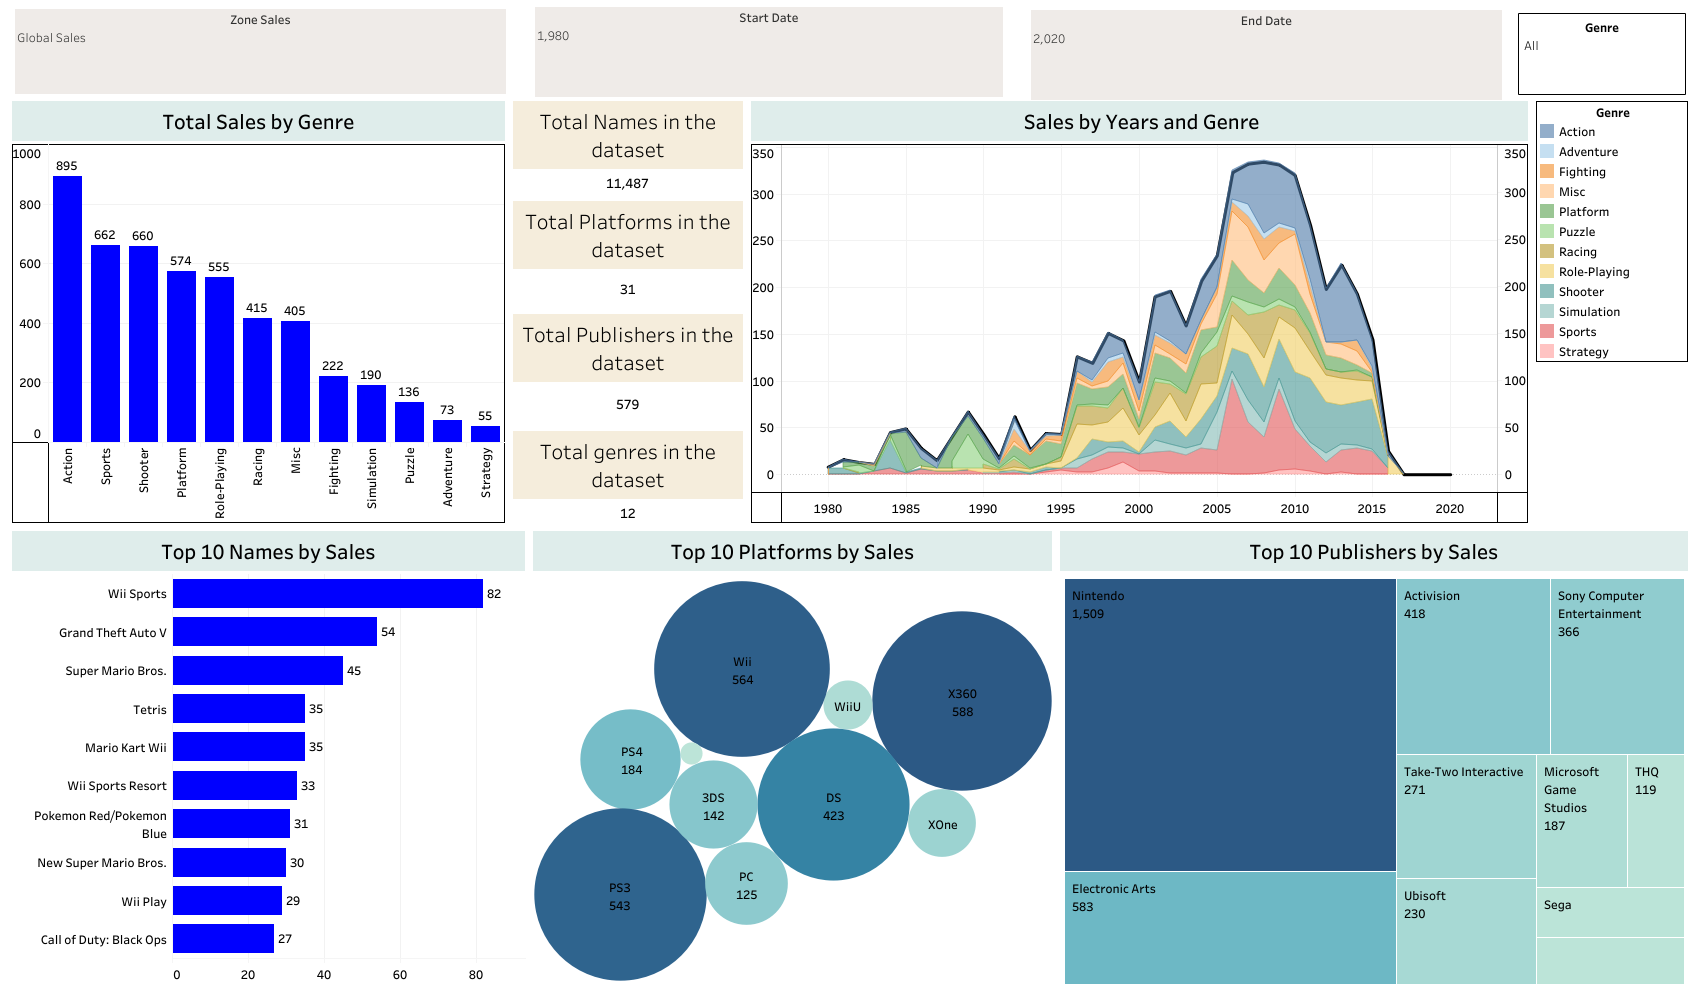

The page's visual inventory and layout, read from the dashboard file:
{"tool":"tableau","page":{"name":"Dashboard 1","canvas":[1700,1000],"ordinal":0},"visuals":[{"type":"parameter","param":"[Parameters].[Parameter 2]","box":[535,7,468,90]},{"type":"blank","box":[8,8,501,89]},{"type":"parameter","param":"[Parameters].[Parameter 1]","box":[15,9,491,85]},{"type":"parameter","param":"[Parameters].[Parameter 3]","box":[1031,10,471,90]},{"type":"filter","title":" Sales by Years and Genre","param":"[federated.04hql3z19e53441gzdjo21470nii].[none:Genre:nk]","box":[1518,13,168,82]},{"type":"worksheet","title":"Total Sales by Genre","mark":"Automatic","rows":["Calculation_834291831549964288"],"cols":["Genre"],"box":[8,97,501,430]},{"type":"worksheet","title":"Total Names in the dataset","mark":"Automatic","box":[509,97,238,100]},{"type":"worksheet","title":" Sales by Years and Genre","mark":"Automatic","rows":["Calculation_834291831549964288","Calculation_834291831549964288"],"cols":["Year"],"box":[747,97,785,430]},{"type":"legend","title":" Sales by Years and Genre","param":"[federated.04hql3z19e53441gzdjo21470nii].[none:Genre:nk]","box":[1532,97,160,278]},{"type":"worksheet","title":"Total Platforms in the dataset ","mark":"Automatic","box":[509,197,238,113]},{"type":"worksheet","title":"Total Publishers in the dataset","mark":"Automatic","box":[509,310,238,117]},{"type":"worksheet","title":"Total genres in the dataset","mark":"Automatic","box":[509,427,238,100]},{"type":"worksheet","title":"Top 10 Names by Sales","mark":"Automatic","rows":["Name"],"cols":["Calculation_834291831549964288"],"box":[8,527,521,465]},{"type":"worksheet","title":"Top 10 Platforms by Sales","mark":"Circle","box":[529,527,527,465]},{"type":"worksheet","title":"Top 10 Publishers by Sales","mark":"Automatic","box":[1056,527,636,465]}]}

Visuals, with their boxes in screenshot pixels (x1, y1, x2, y2), scaled from the page's 1700x1000 canvas onto the 1699x999 screenshot:
parameter: 535/7/1002/97
blank: 8/8/509/97
parameter: 15/9/506/94
parameter: 1030/10/1501/100
" Sales by Years and Genre" filter: 1517/13/1685/95
"Total Sales by Genre" worksheet: 8/97/509/526
"Total Names in the dataset" worksheet: 509/97/747/197
" Sales by Years and Genre" worksheet: 747/97/1531/526
" Sales by Years and Genre" legend: 1531/97/1691/375
"Total Platforms in the dataset " worksheet: 509/197/747/310
"Total Publishers in the dataset" worksheet: 509/310/747/427
"Total genres in the dataset" worksheet: 509/427/747/526
"Top 10 Names by Sales" worksheet: 8/526/529/991
"Top 10 Platforms by Sales" worksheet (Circle marks): 529/526/1055/991
"Top 10 Publishers by Sales" worksheet: 1055/526/1691/991
